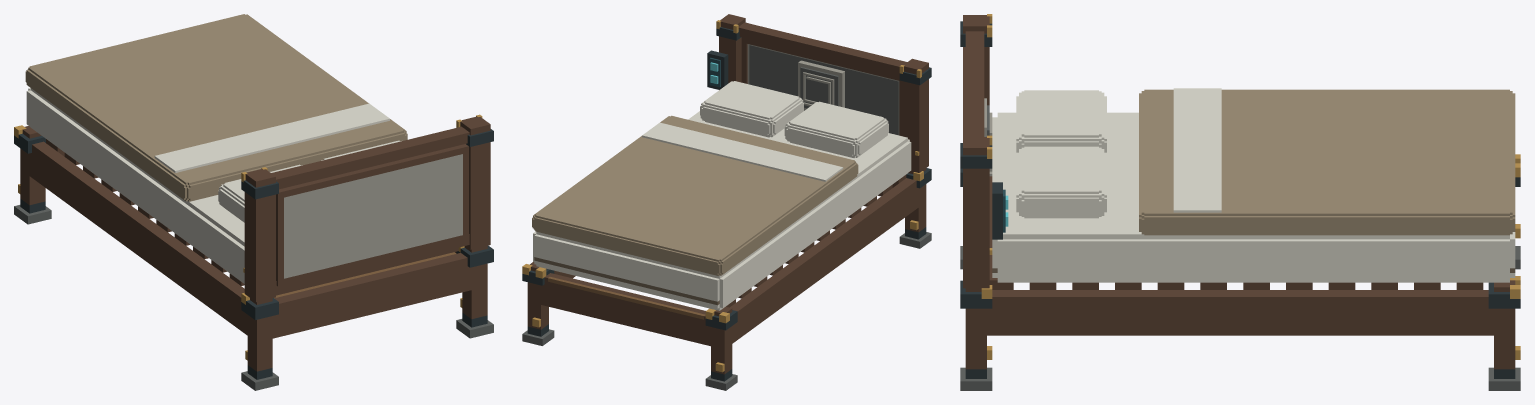
The picture shows the model from 3 angles, left to right: view 1: azimuth 30°, elevation 25°; view 2: azimuth 150°, elevation 25°; view 3: azimuth 270°, elevation 25°; orthographic projection. The views are drawn at different scales.
Parts seen in each view (by area): view 1: 被褥及枕头组合, 床头靠板, 住宅床架, 床垫基础块; view 2: 被褥及枕头组合, 住宅床架, 床头靠板, 床垫基础块; view 3: 被褥及枕头组合, 床垫基础块, 住宅床架, 床头靠板.
Part boxes in pixels (box(x1,y1,x2,y2)): 被褥及枕头组合: box(25, 14, 407, 222); 床头靠板: box(241, 114, 493, 302); 住宅床架: box(14, 125, 493, 390); 床垫基础块: box(26, 88, 244, 283); 被褥及枕头组合: box(532, 81, 888, 275); 住宅床架: box(522, 168, 931, 390); 床头靠板: box(707, 14, 931, 172); 床垫基础块: box(533, 111, 911, 310); 被褥及枕头组合: box(1016, 88, 1515, 235); 床垫基础块: box(992, 112, 1515, 282); 住宅床架: box(960, 154, 1520, 390); 床头靠板: box(960, 14, 1008, 288).
Bounding box in the file's own units: 1.23 × 1 × 2.1.
Materials: 11 (11 with a texture image).
